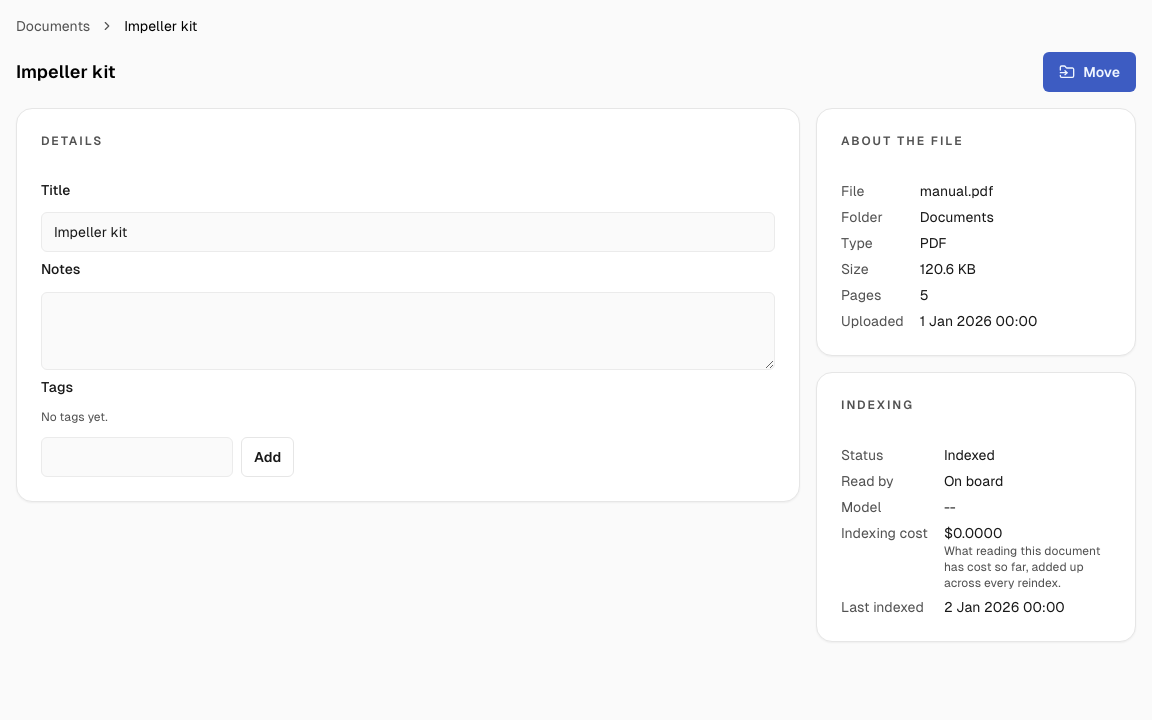
Test case: DocumentDetailsPage › Discard restores the loaded values and takes the bar away
This screenshot has width=1152, height=720.
Replace the text in the field labelled "Title" with "Impeller kit v2" at (408, 232), box [41,212,775,252]
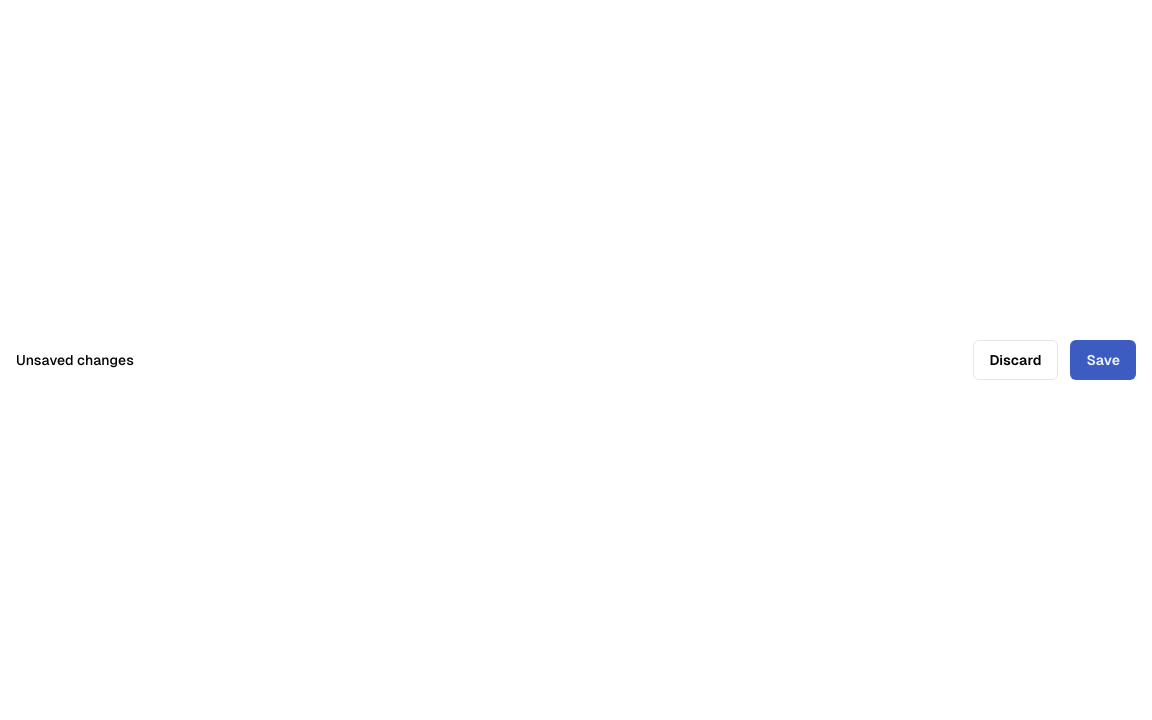
Click the button "Discard" at (1015, 360), box [972,340,1058,380]
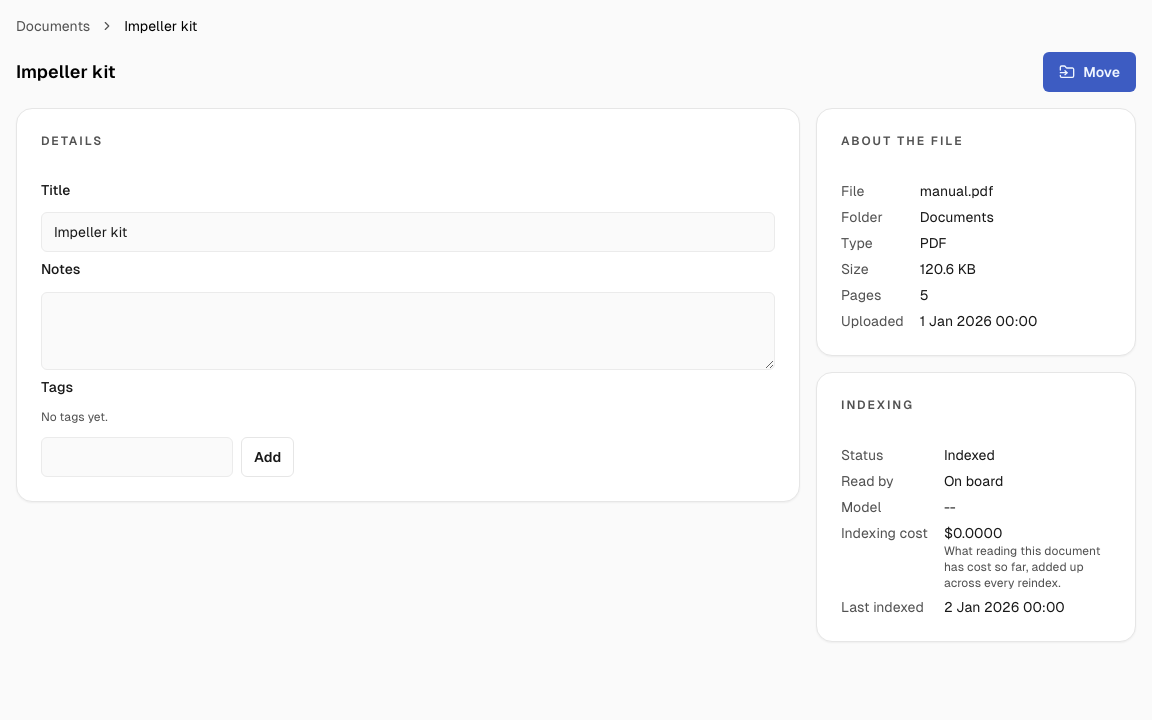
Expected: the field labelled "Title" holds "Impeller kit", [41,212,775,252]
Expected: the text "save" is gone
